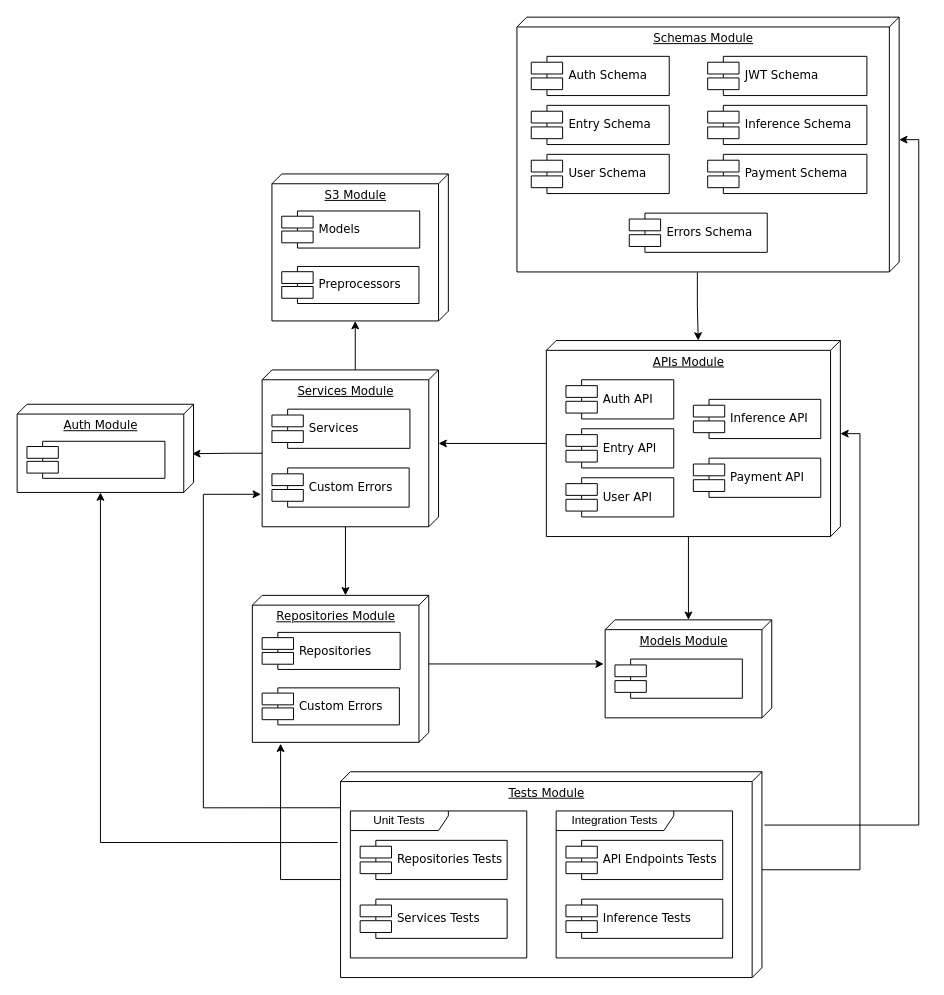
This 944x995 diagram has some shape labels left out. Each missing label, with the centre of its shape:
API Models: [678,678]
JWT: [95,459]
